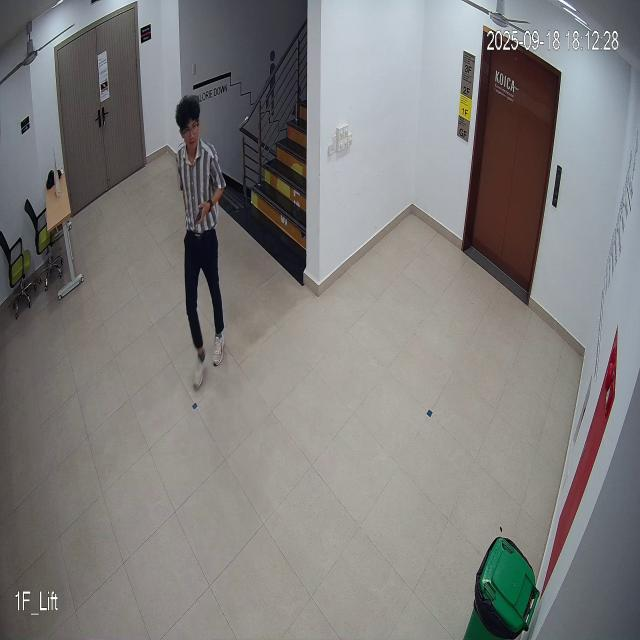face: (173, 94, 204, 160)
